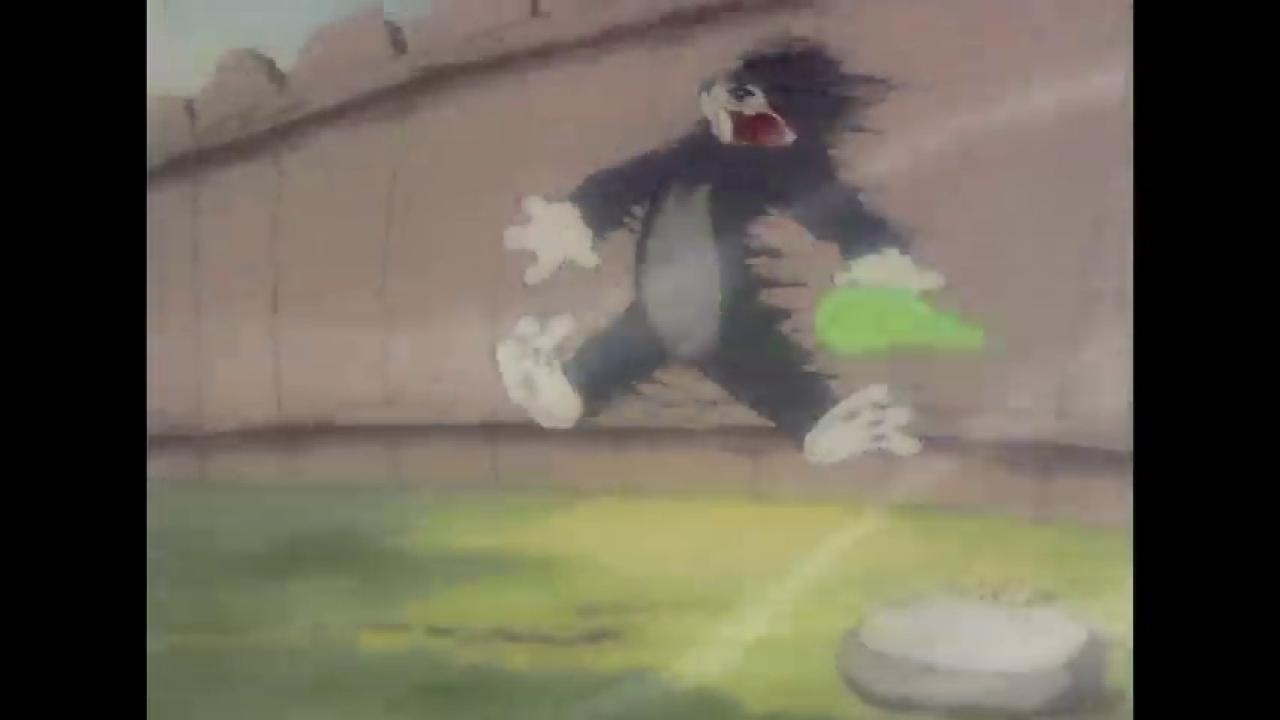Tom: (491, 33, 951, 462)
